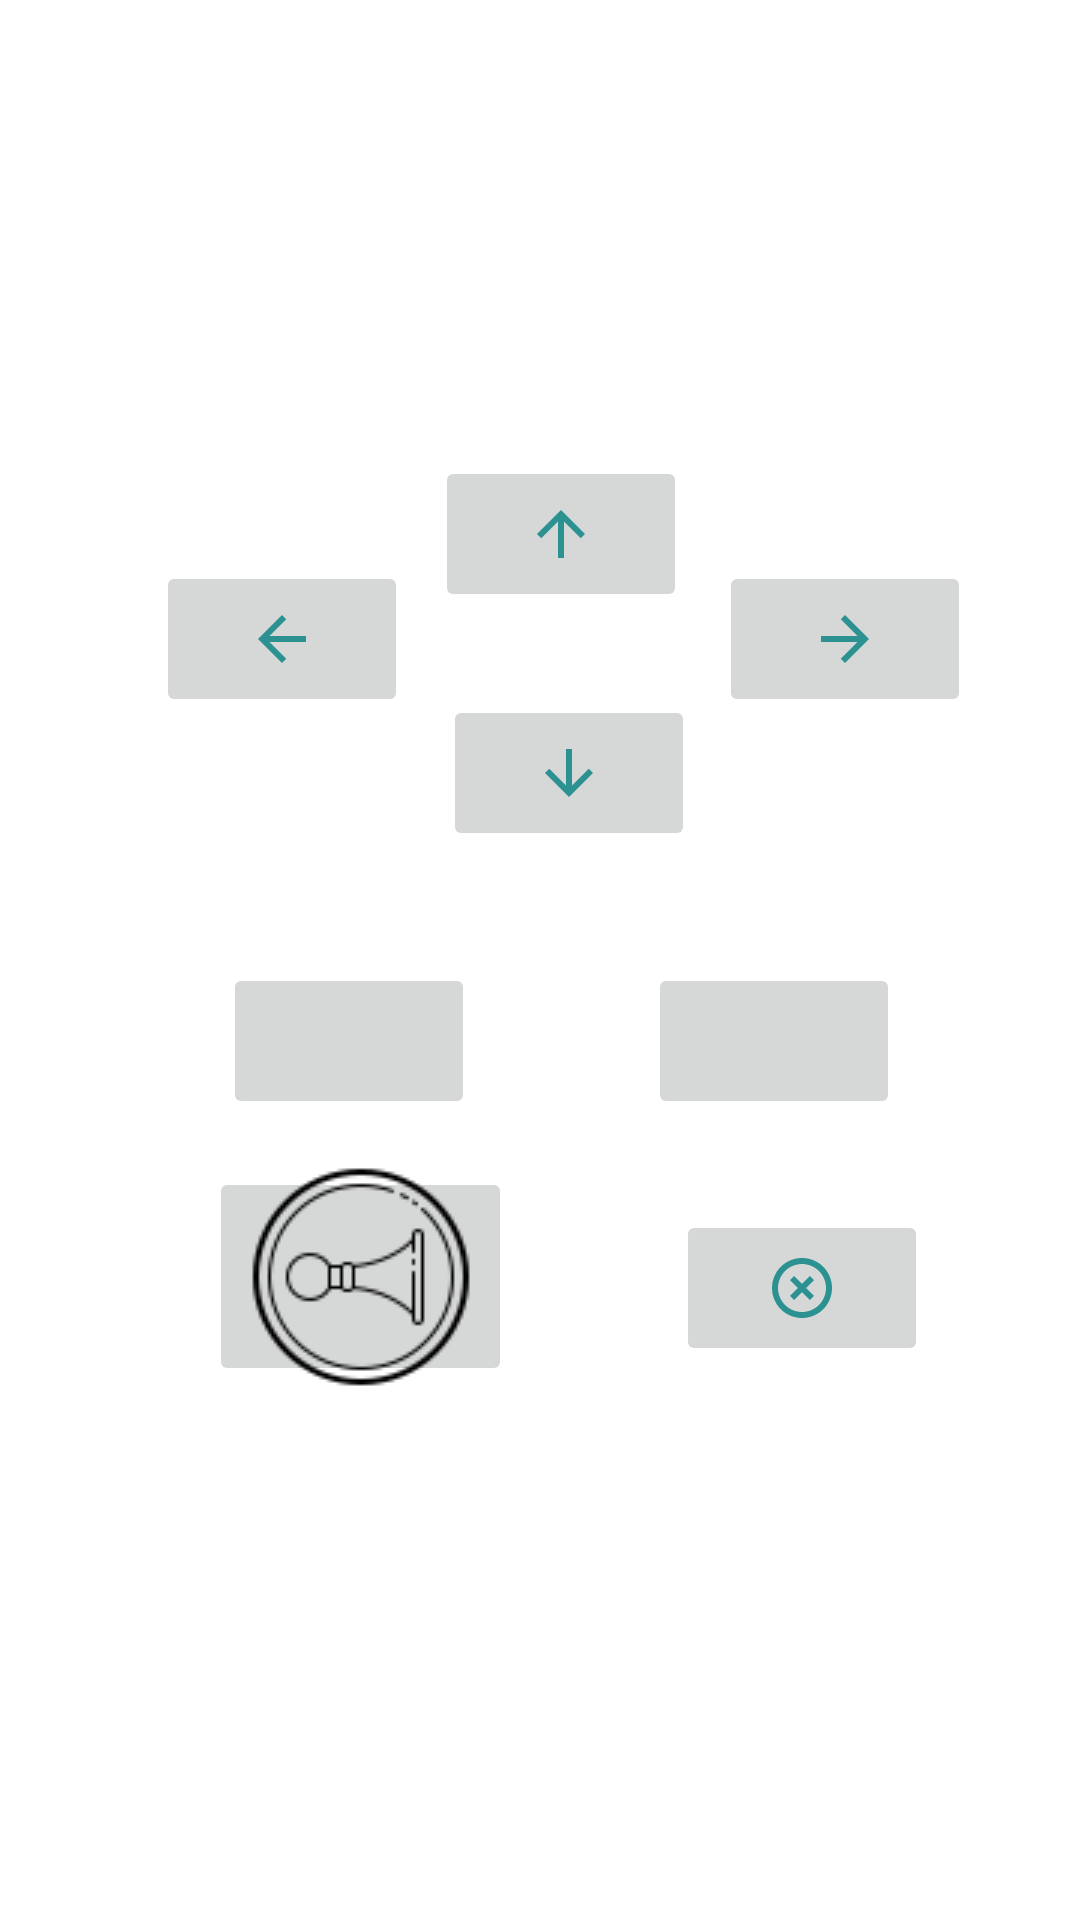

Icons on this 1080px x 1920px Android screen, each with its box as (x1, y1, x2, y2):
arrowdown: (455, 713, 683, 833)
arrowleft: (168, 579, 396, 699)
arrowright: (731, 579, 959, 699)
arrowup: (447, 474, 675, 594)
horn: (221, 1168, 500, 1386)
